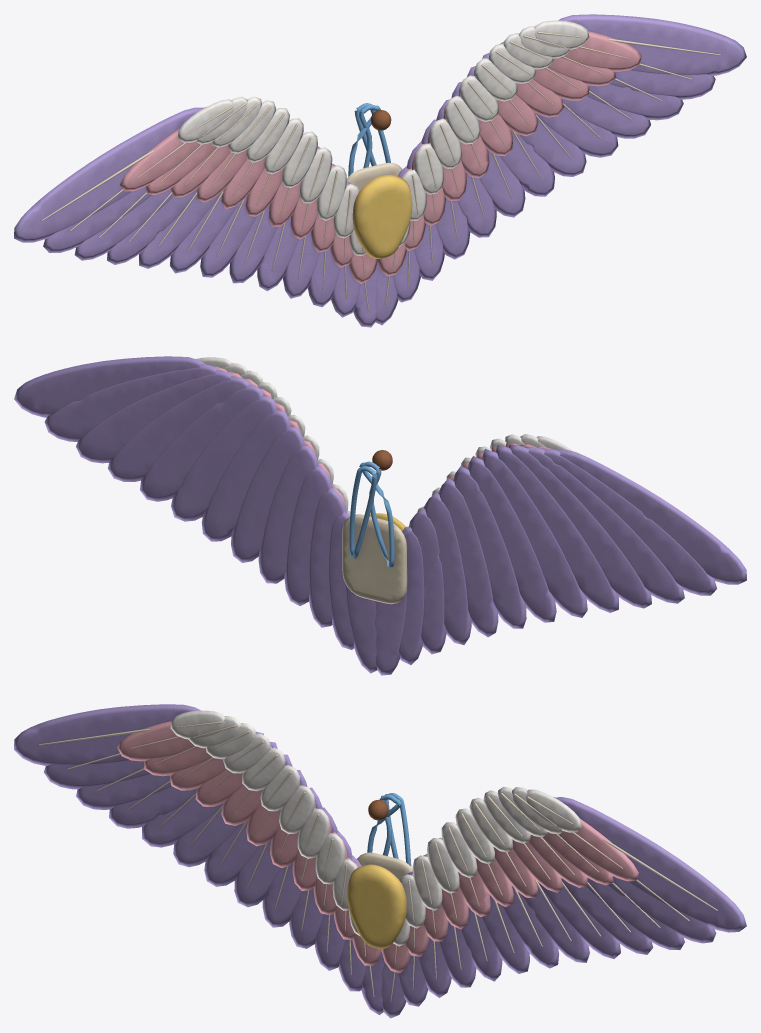
The model's file is kanat_peri.glb.
3 views of the same model, one above another, from view 1: azimuth 30°, elevation 25°; view 2: azimuth 150°, elevation 25°; view 3: azimuth 330°, elevation 25° (orthographic).
Parts seen in each view (by area): view 1: sol, sag, orta; view 2: sol, sag, orta; view 3: sag, sol, orta.
Boxes of the visible parts, box(x1,y1,x2,y2) form: sol: box(14, 96, 360, 317); sag: box(393, 14, 746, 302); orta: box(346, 103, 412, 327); sol: box(399, 434, 746, 664); sag: box(14, 356, 355, 649); orta: box(342, 450, 407, 675); sag: box(399, 786, 746, 1006); sol: box(14, 704, 365, 991); orta: box(347, 793, 412, 1018).
Size of the model in its own units: 1.48 by 0.5231 by 0.0796.
1 material, 1 textured.
